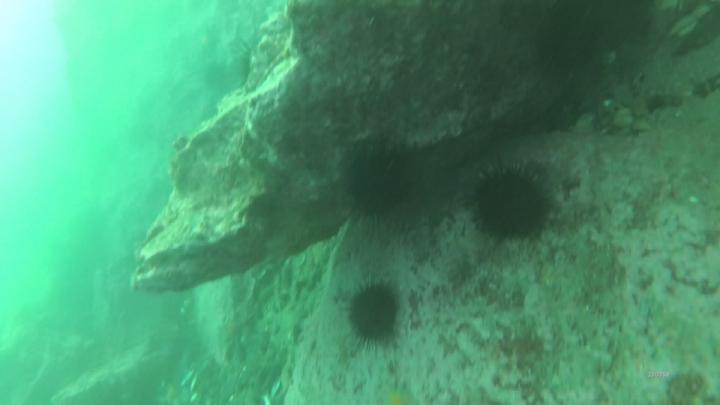echinus: (475, 176, 549, 243), (349, 161, 407, 216), (349, 289, 401, 344)
